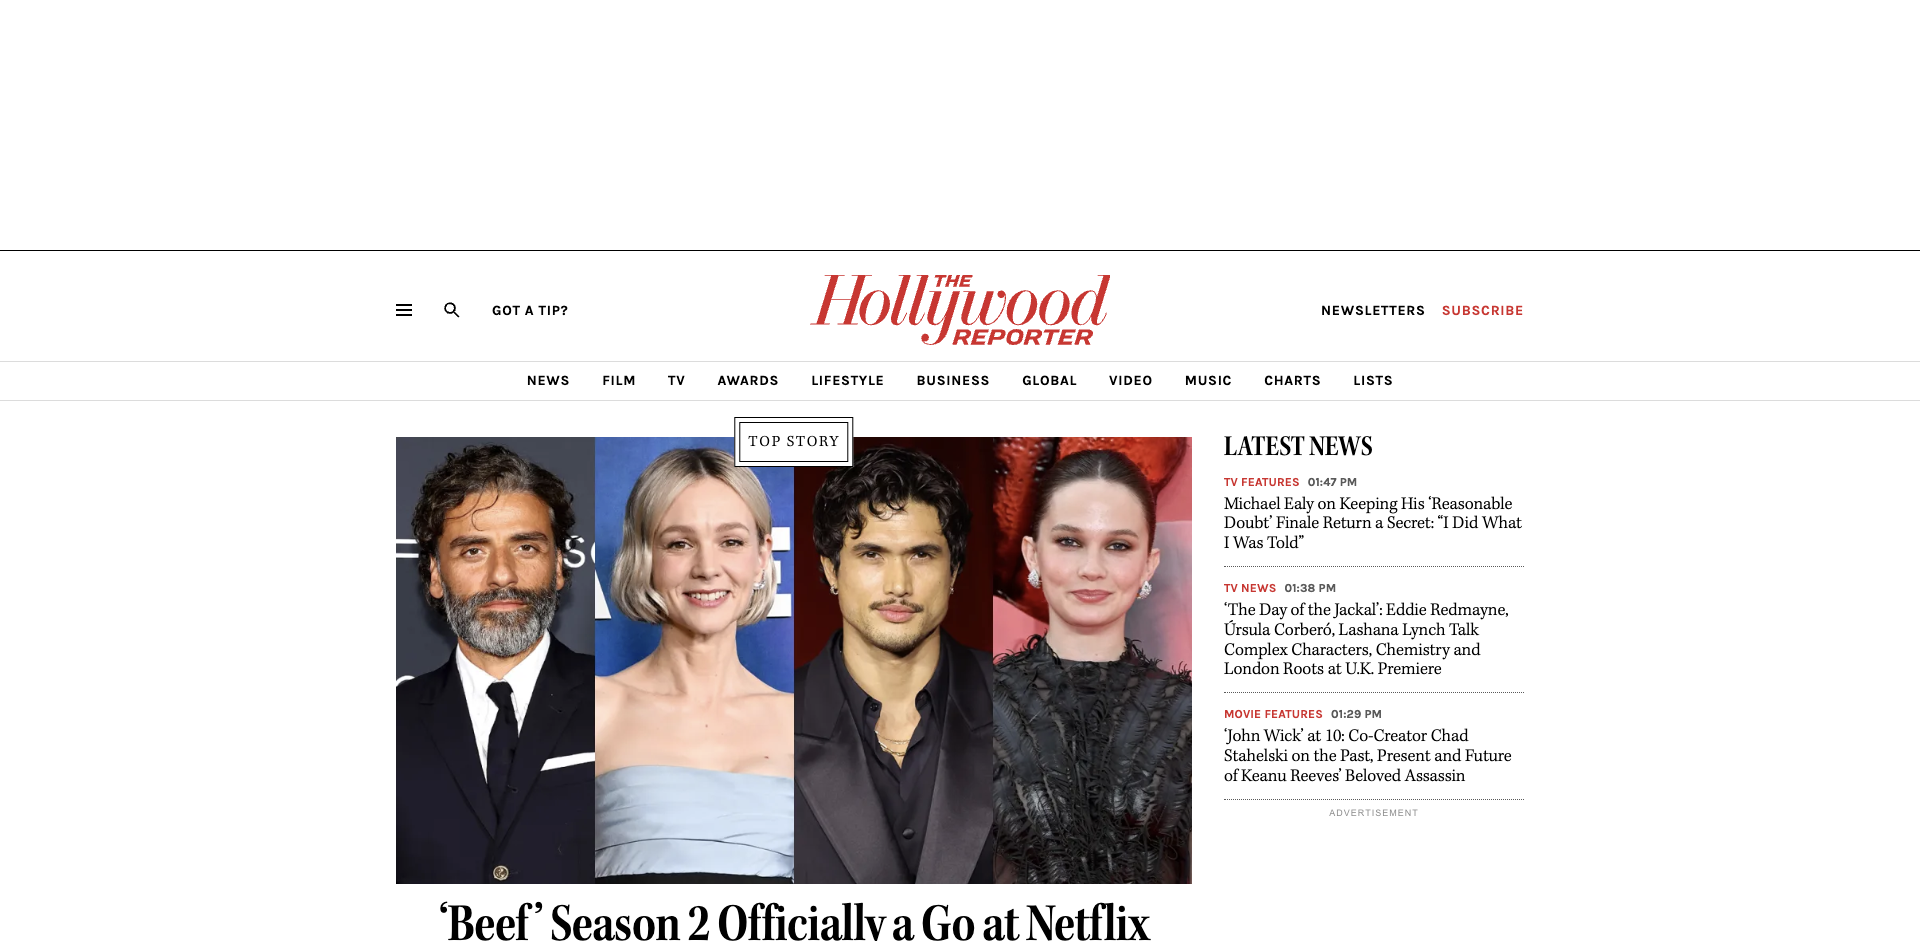button: (1305, 527, 1490, 567), (1346, 0, 1460, 45), (1330, 538, 1467, 556), (429, 285, 476, 334), (1363, 7, 1442, 26), (396, 301, 411, 319)
input: (970, 0, 1346, 45)
link: (413, 893, 1176, 941), (1224, 599, 1509, 680), (809, 274, 1111, 346), (1224, 493, 1522, 554), (1224, 725, 1511, 787), (978, 167, 1071, 187), (1321, 301, 1425, 319), (1224, 707, 1322, 722), (1441, 301, 1524, 319), (492, 301, 568, 319), (917, 372, 991, 388), (812, 372, 884, 388), (1224, 474, 1299, 489), (718, 372, 779, 388), (1178, 93, 1258, 105), (1264, 372, 1321, 388), (1022, 372, 1078, 388), (666, 154, 731, 168), (1286, 56, 1353, 69), (1089, 93, 1156, 105), (579, 29, 604, 61), (634, 29, 659, 61), (662, 29, 687, 61), (528, 154, 585, 168), (1184, 56, 1247, 69), (527, 372, 571, 390), (1224, 581, 1276, 595), (1185, 372, 1232, 388), (607, 29, 631, 61), (460, 154, 512, 168), (1109, 372, 1152, 388), (601, 154, 650, 168), (1353, 372, 1393, 388), (602, 372, 636, 390), (669, 372, 686, 388)
